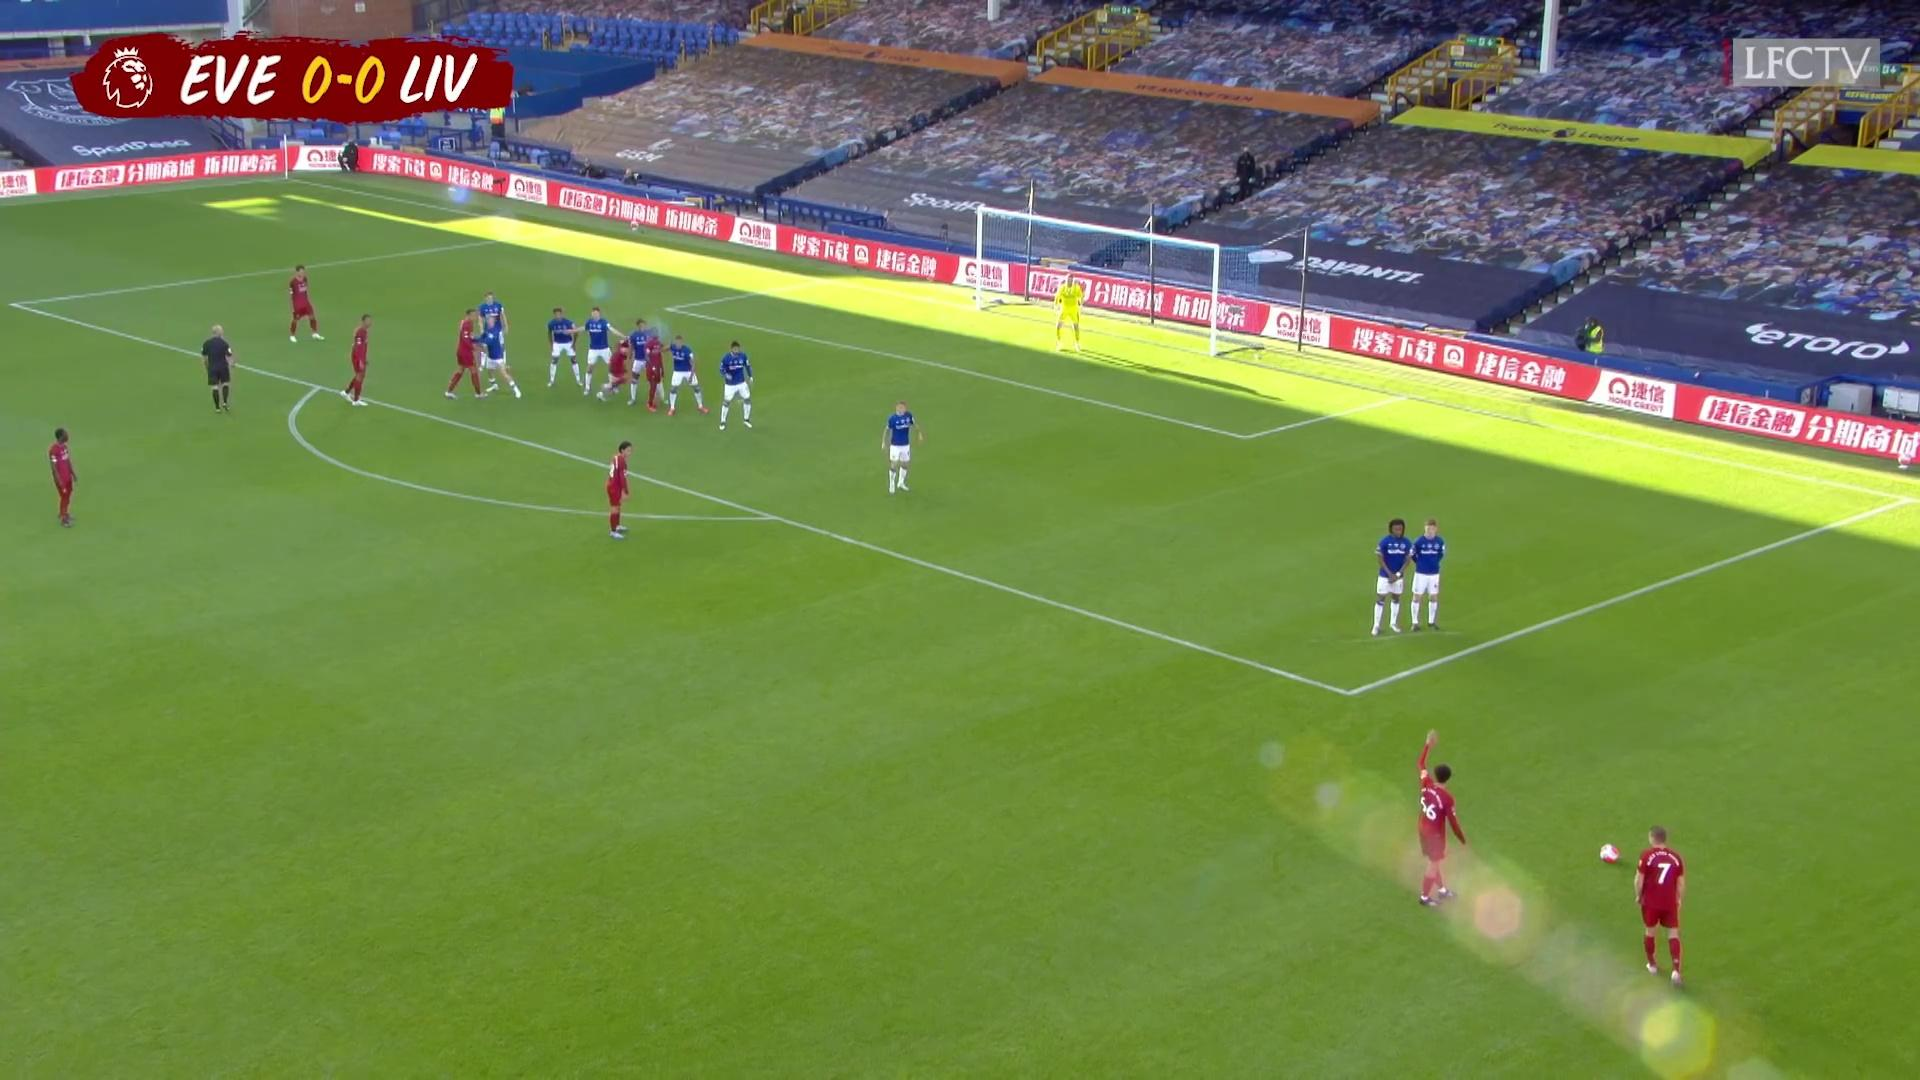ball: (1597, 841, 1620, 866)
goalkeeper: (1050, 274, 1088, 357)
player: (1410, 725, 1473, 914), (1628, 822, 1693, 990), (1369, 518, 1416, 642), (576, 306, 631, 398), (446, 306, 497, 403), (879, 398, 927, 497), (1409, 520, 1449, 637), (714, 338, 762, 431), (597, 325, 647, 411), (662, 333, 712, 418), (481, 314, 527, 404), (281, 263, 326, 349), (45, 424, 80, 531), (602, 437, 638, 541), (473, 287, 512, 377), (340, 310, 374, 408), (549, 306, 586, 395), (626, 316, 661, 408), (643, 324, 673, 414)
referee: (198, 320, 241, 420)
